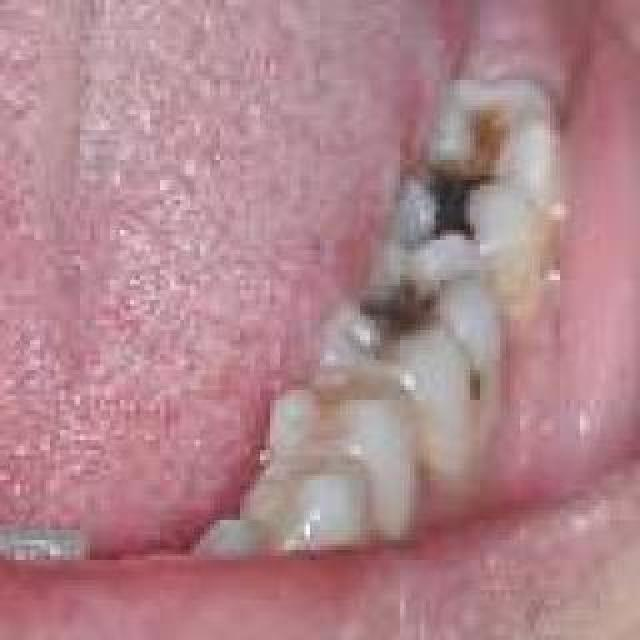calculus: (470, 152, 610, 330)
cavities: (420, 159, 496, 245), (454, 109, 530, 195), (370, 265, 440, 345)
maligned: (0, 510, 126, 586)
